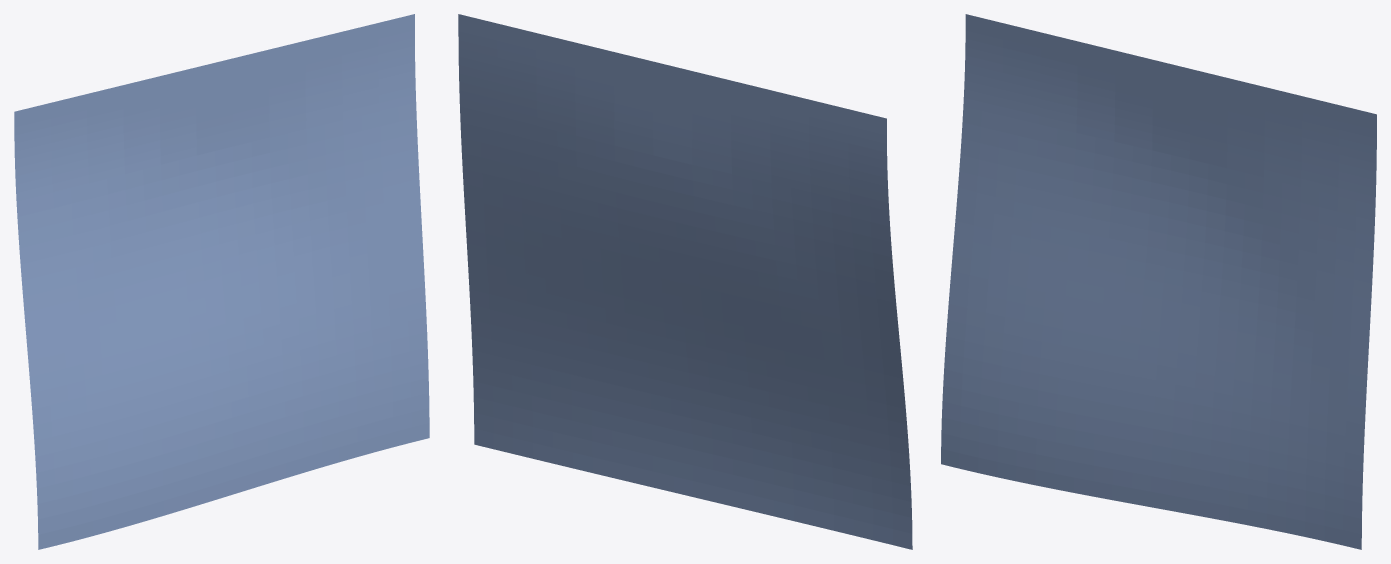
Rendered from stickynote blue.fbx.
3 renders of one model, left to right at view 1: azimuth 30°, elevation 25°; view 2: azimuth 150°, elevation 25°; view 3: azimuth 330°, elevation 25°, orthographic. The views are drawn at different scales.
Parts seen in each view (by area): view 1: stickynot; view 2: stickynot; view 3: stickynot.
Boxes of the visible parts, <box> form: stickynot: <box>14,14,429,549</box>; stickynot: <box>458,14,912,549</box>; stickynot: <box>941,14,1376,549</box>.
Bounding box in the file's own units: 51.5 × 51.71 × 5.34.
